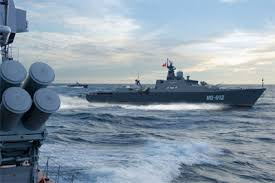tau_muctieu: (80, 55, 268, 109)
